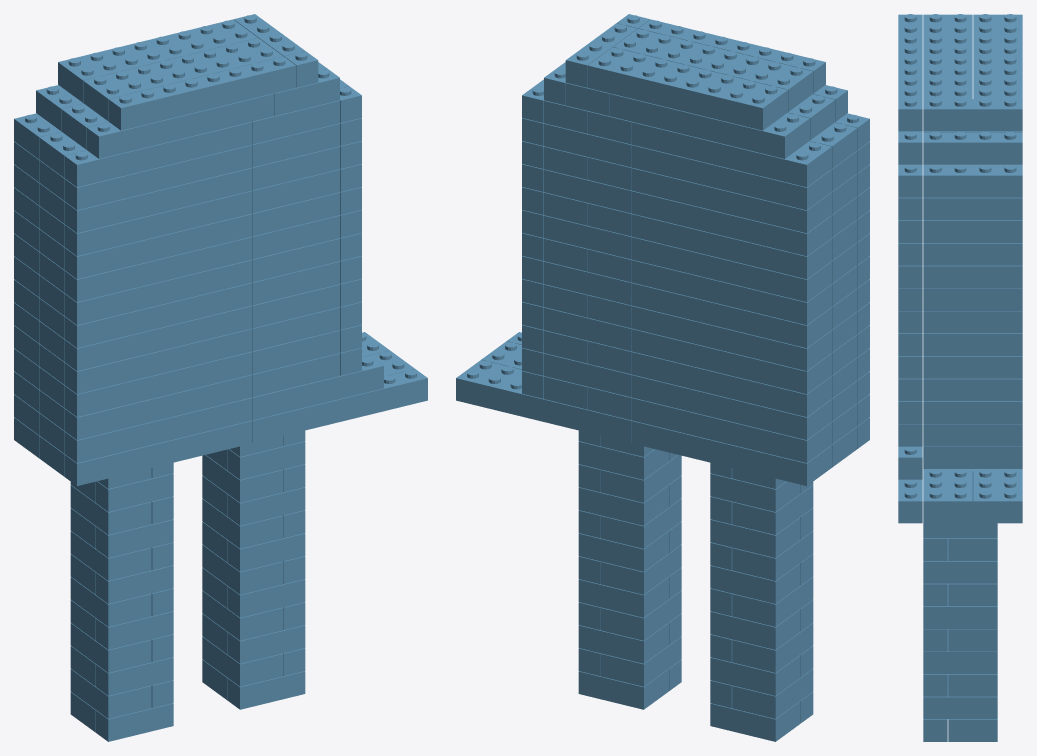
File: 196_piano_L1.glb
The picture shows the model from 3 angles, left to right: view 1: azimuth 30°, elevation 25°; view 2: azimuth 150°, elevation 25°; view 3: azimuth 270°, elevation 25°; orthographic projection.
Bounding box in the file's own units: 15.98 × 28.13 × 4.98.
